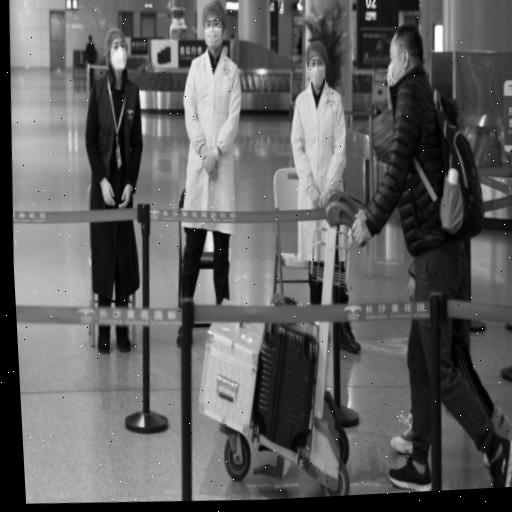mask: (381, 23, 428, 94), (197, 0, 230, 57), (100, 24, 132, 76), (301, 38, 330, 88)
